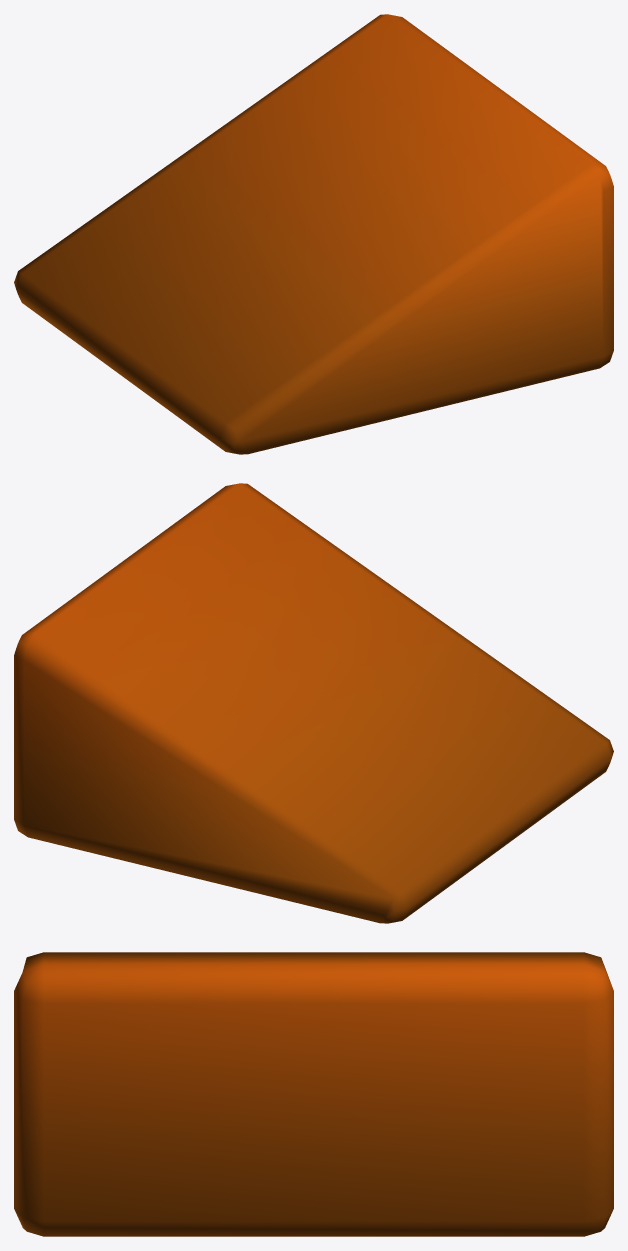
File: 3D_Tile_Ground_Slope_04B.fbx
The picture shows the model from 3 angles, top to bottom: view 1: azimuth 30°, elevation 25°; view 2: azimuth 150°, elevation 25°; view 3: azimuth 270°, elevation 25°; orthographic projection. The views are drawn at different scales.
Visible parts, largest first — view 1: 3D_Tile_Ground_Slope_04B; view 2: 3D_Tile_Ground_Slope_04B; view 3: 3D_Tile_Ground_Slope_04B.
Boxes of the visible parts, box(x1,y1,x2,y2) form: 3D_Tile_Ground_Slope_04B: box(14, 14, 613, 454); 3D_Tile_Ground_Slope_04B: box(14, 483, 613, 923); 3D_Tile_Ground_Slope_04B: box(14, 952, 613, 1236).
Bounding box in the file's own units: 200 × 100 × 200.
